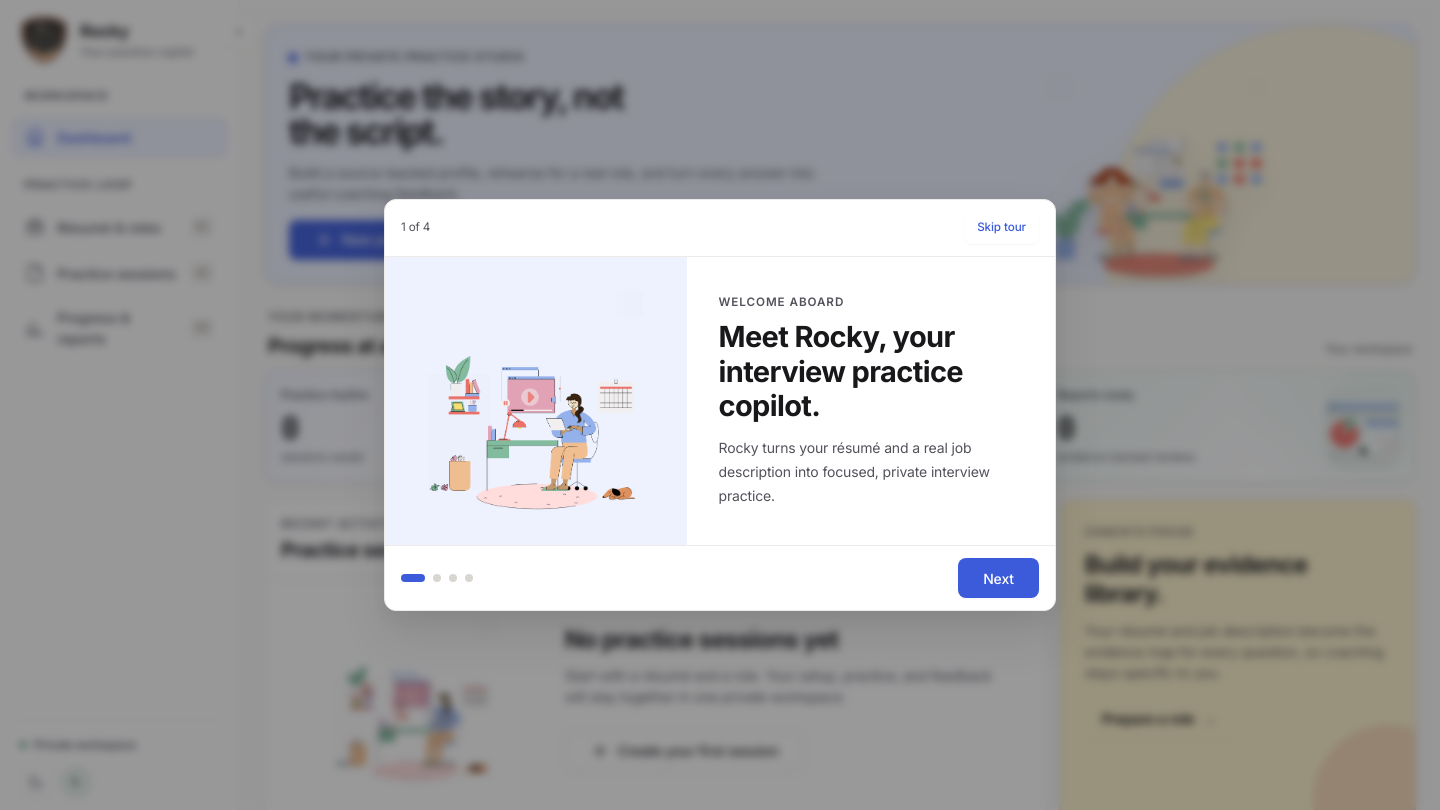
Test: session dashboard › guides a first-time visitor through Rocky once
Expected: the heading "Meet Rocky, your interview practice copilot." is shown, [718, 319, 963, 424]
Click the button "Next": (999, 578) [958, 558, 1039, 598]
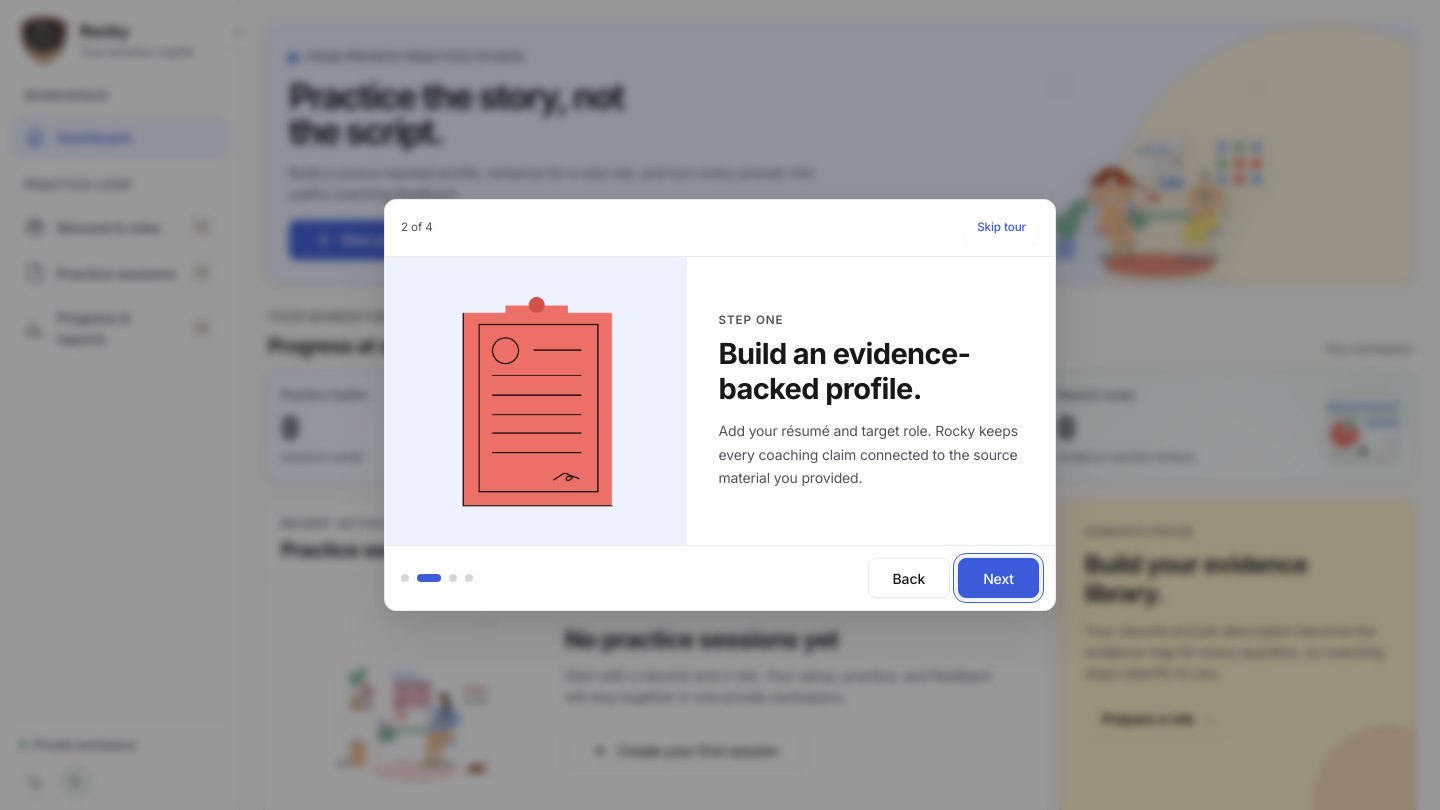
Expected: the heading "Build an evidence-backed profile." is shown, [718, 336, 970, 406]
Click the button "Next": (999, 578) [958, 558, 1039, 598]
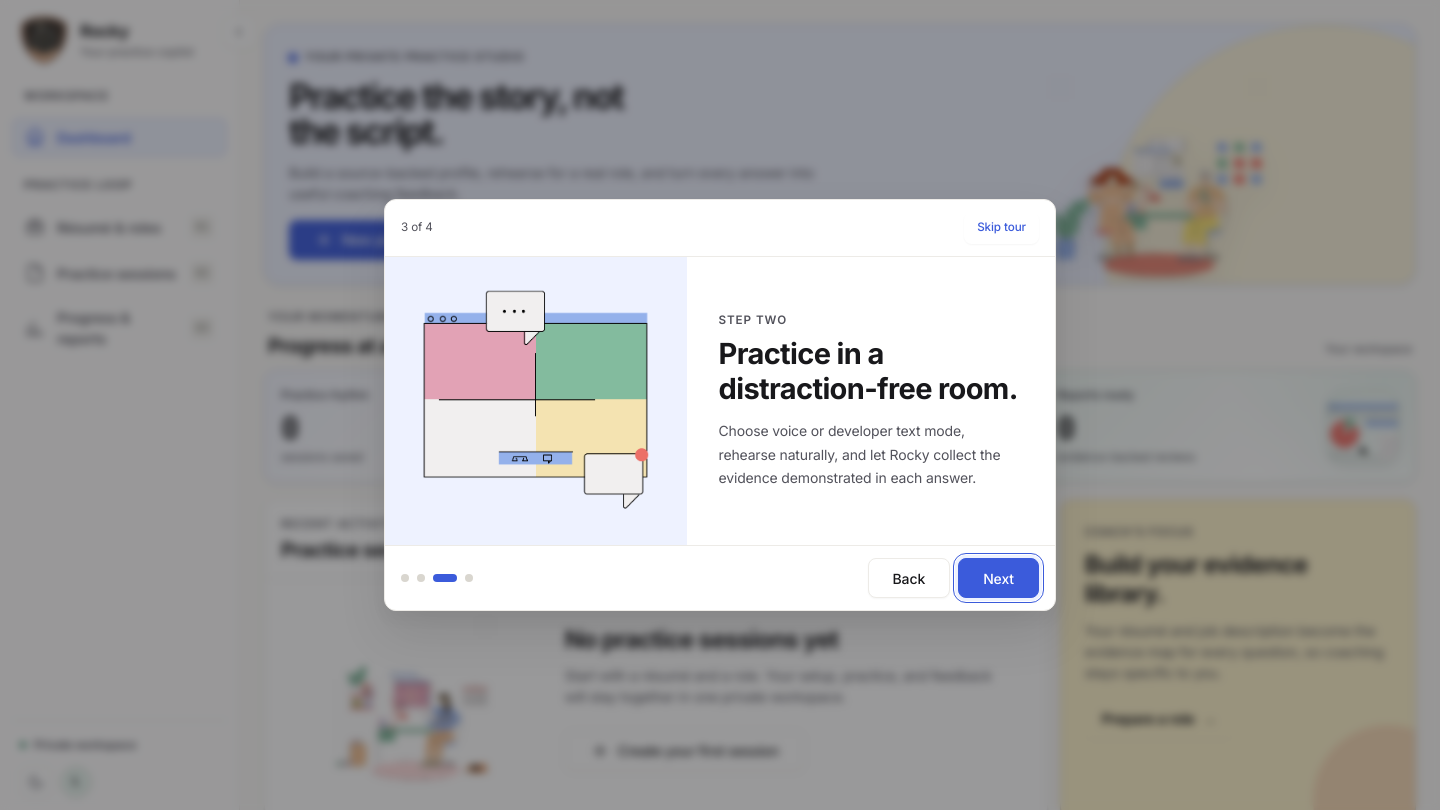
Click the button "Next": (999, 578) [958, 558, 1039, 598]
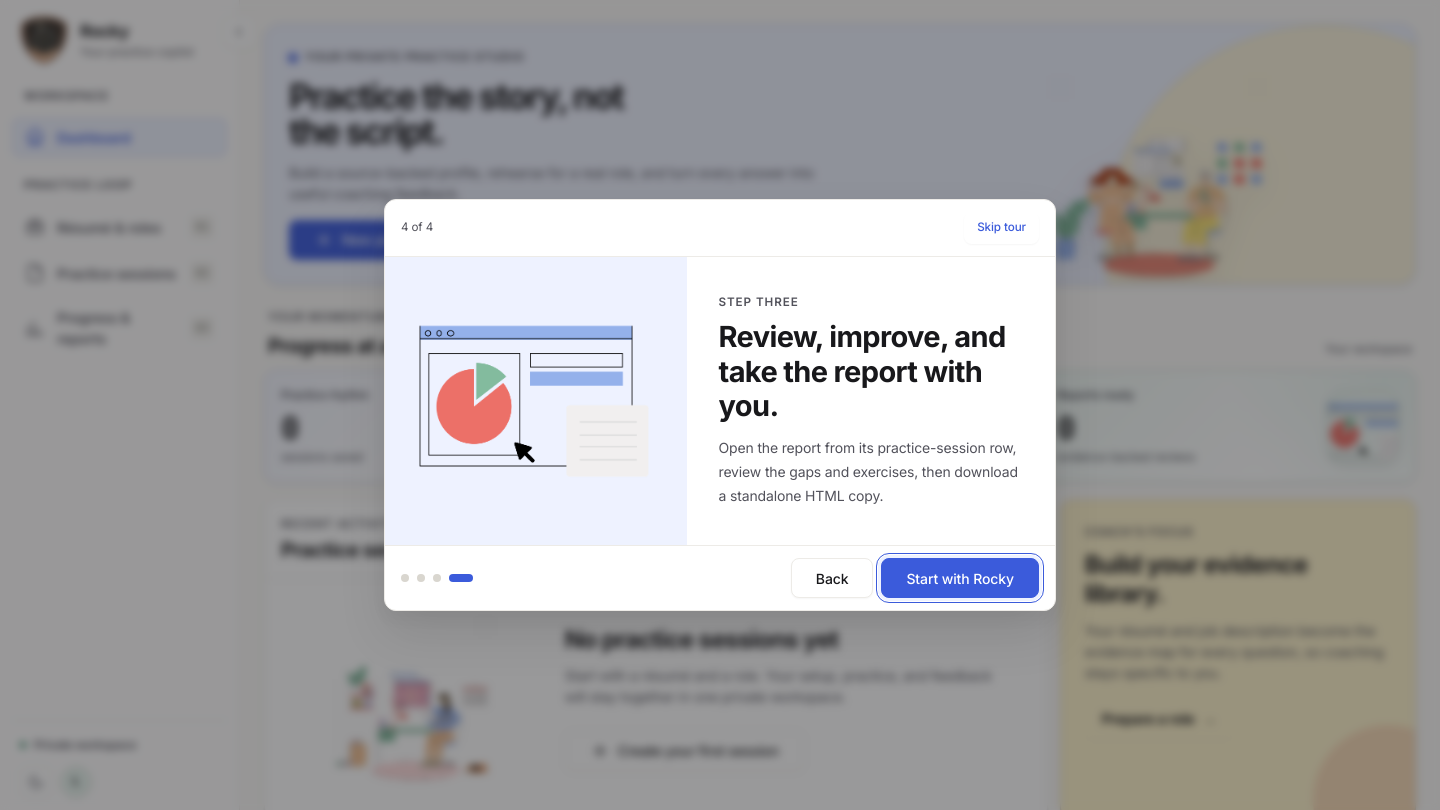
Click the button "Start with Rocky": (960, 578) [881, 558, 1039, 598]
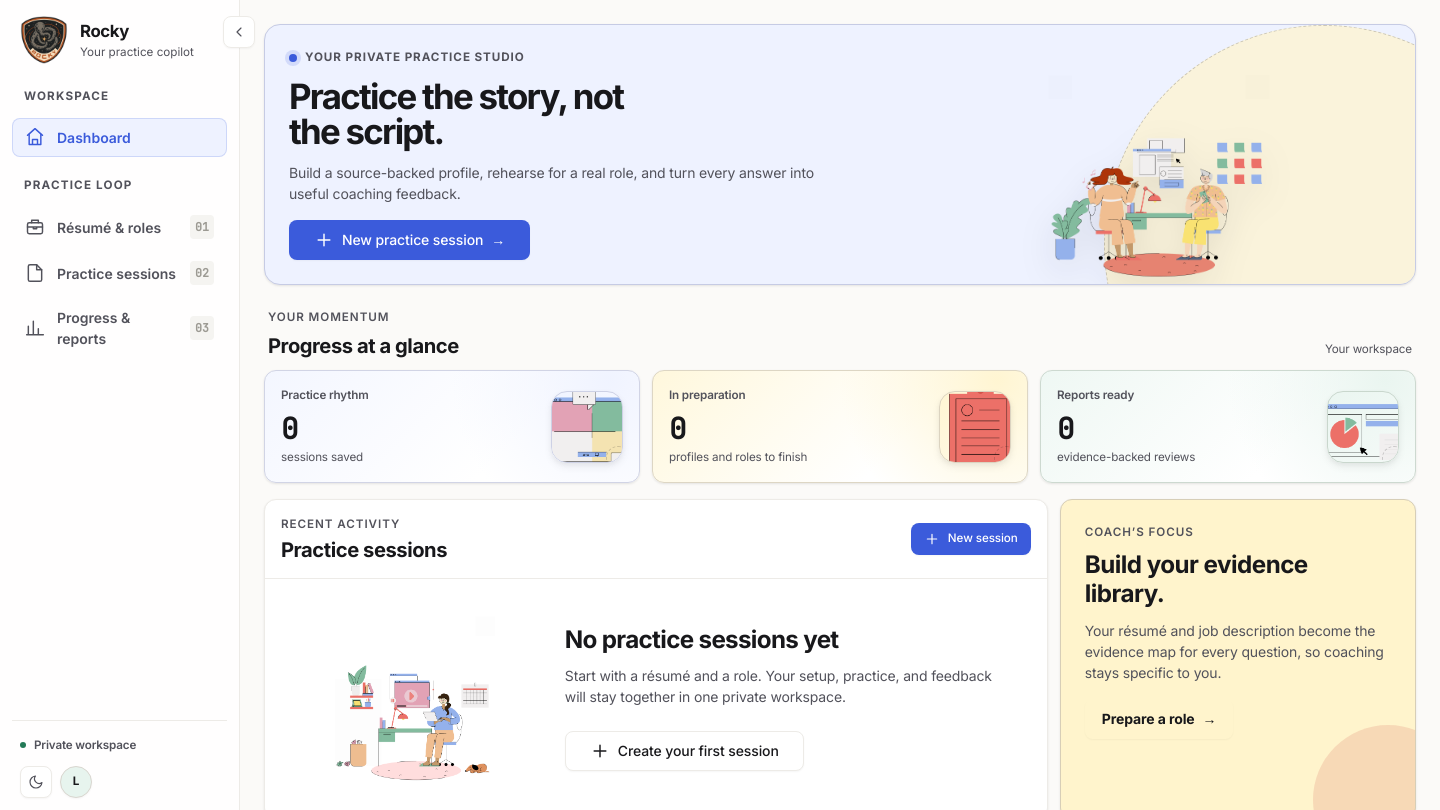
Expected: the dialog is gone
